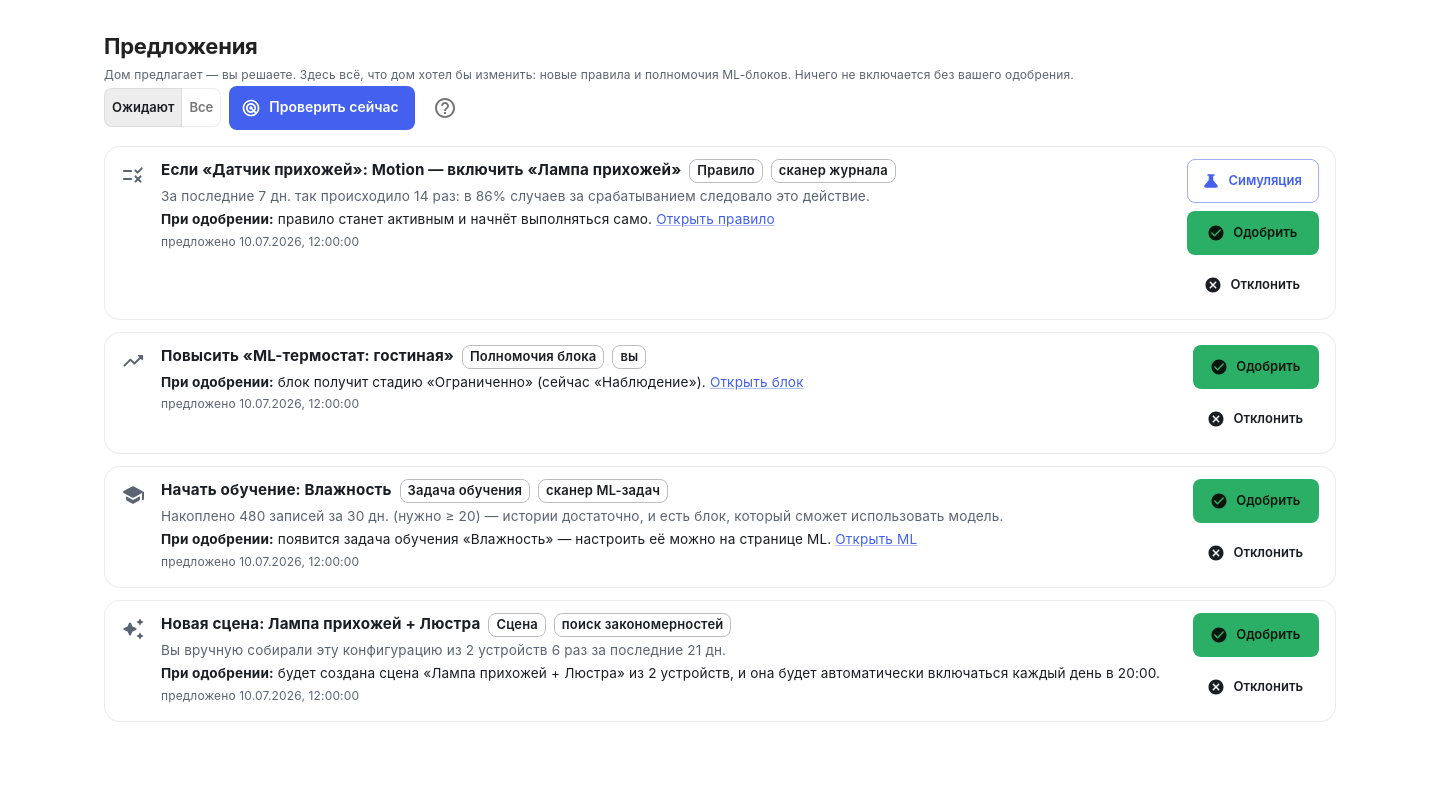
Proposals page › toggles the "how it works" explainer
Expected: the text "сканер журнала" is shown, [772,161,895,180]
Expected: the text "Откуда берутся предложения" is not shown
Click the button named "Как это работает" at (445, 108), box [423,86,467,130]
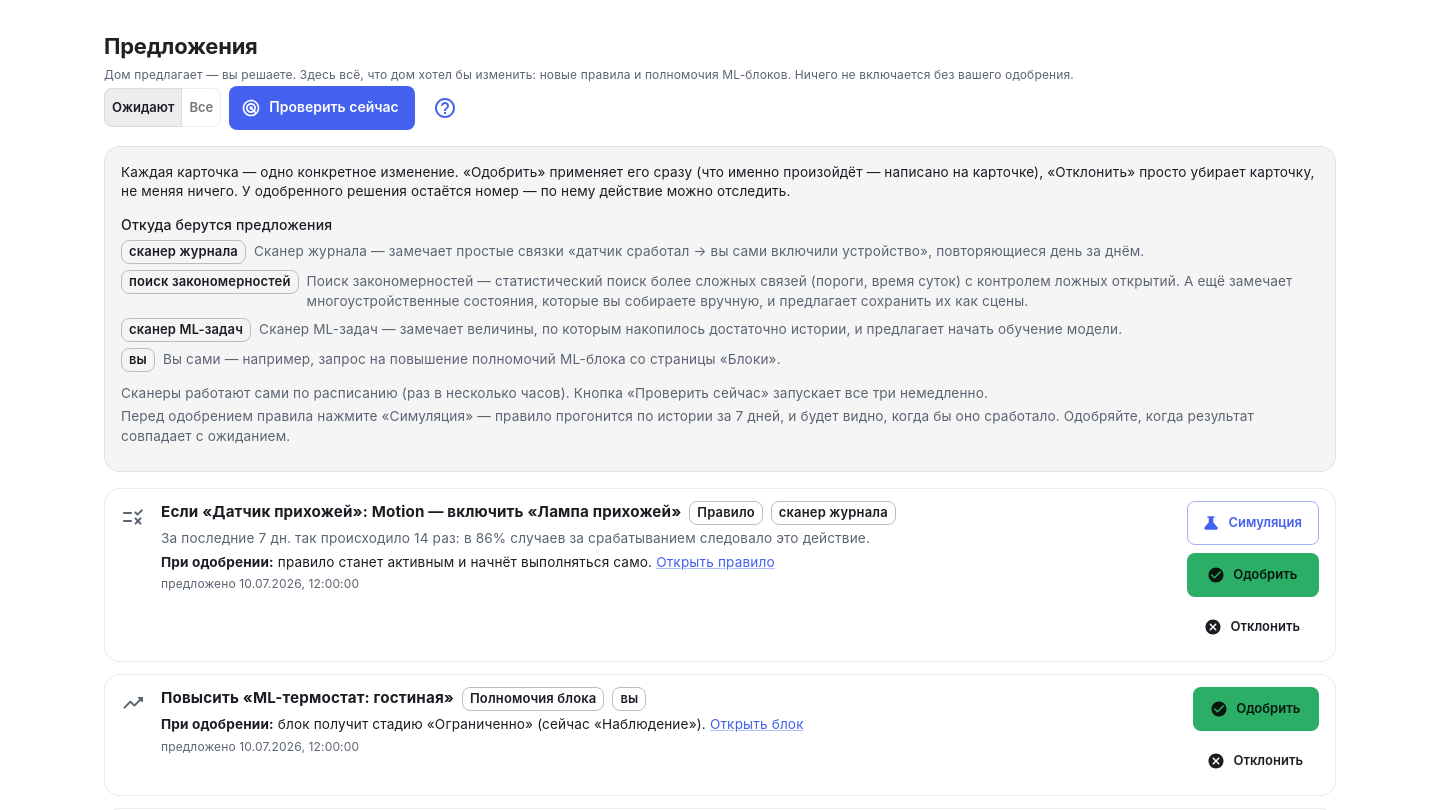
Expected: the heading "Откуда берутся предложения" is shown, [121,216,332,233]
